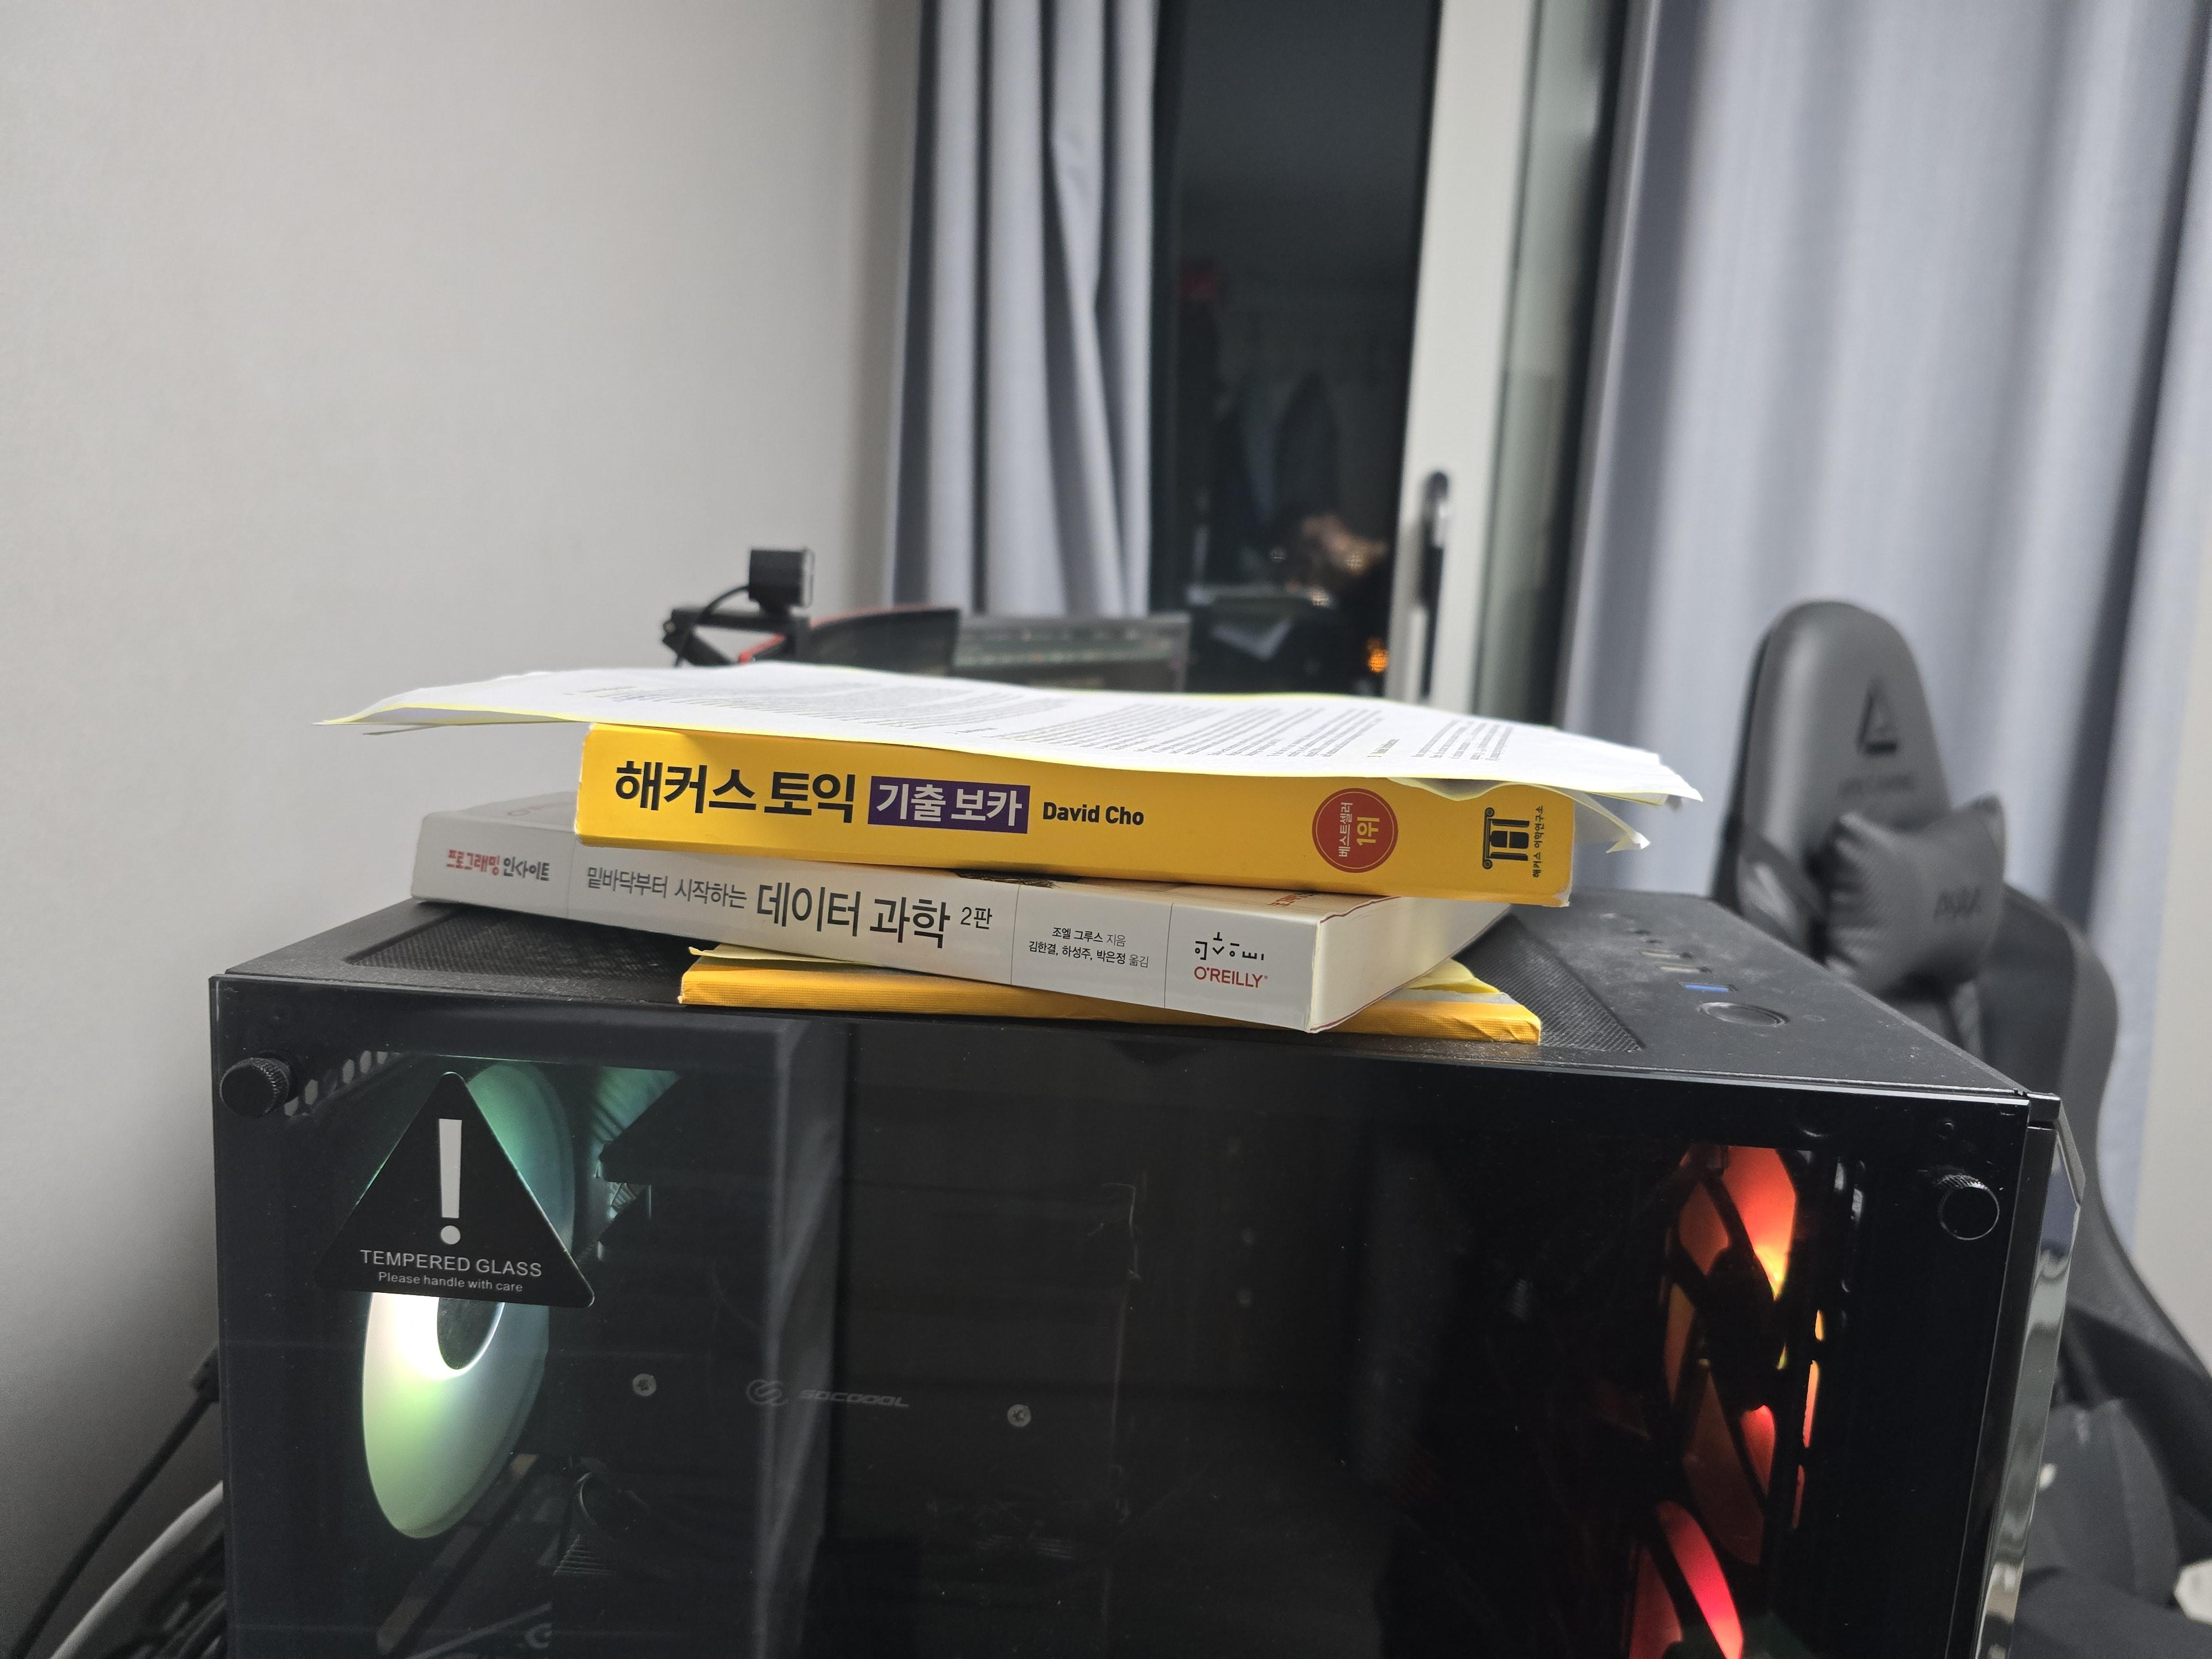book: (314, 659, 1703, 903), (409, 786, 1519, 1037)
